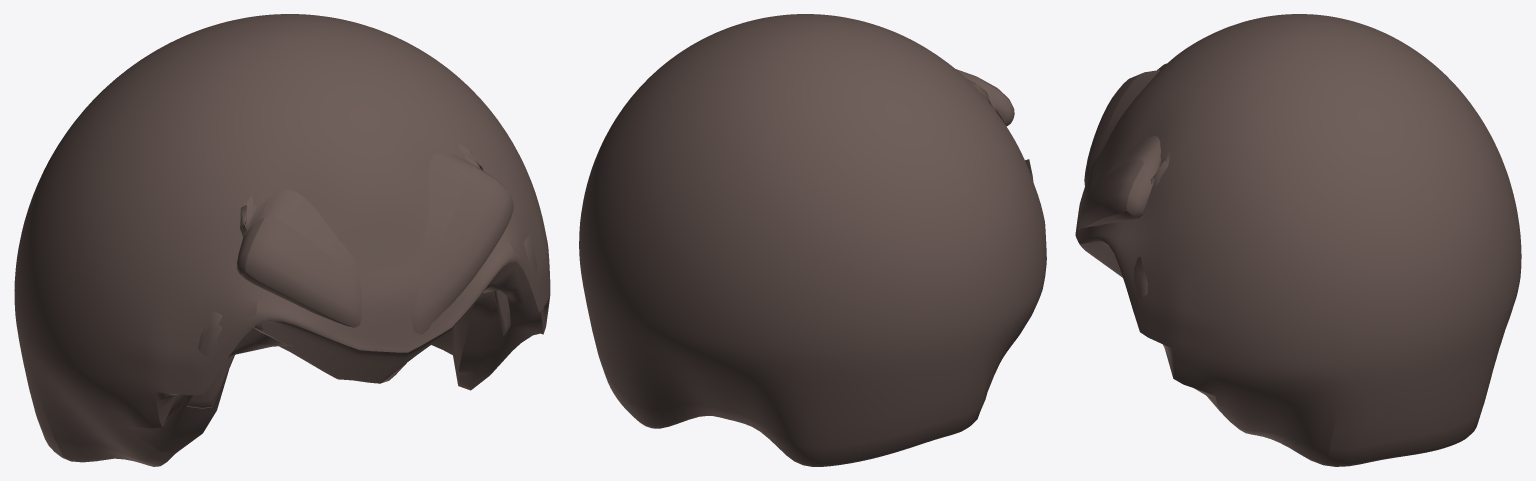
Rendered from Hair_03_SleekBob.glb.
The picture shows the model from 3 angles, left to right: view 1: azimuth 30°, elevation 25°; view 2: azimuth 150°, elevation 25°; view 3: azimuth 270°, elevation 25°; orthographic projection. The views are drawn at different scales.
Parts seen in each view (by area): view 1: Hair_03_SleekBob; view 2: Hair_03_SleekBob; view 3: Hair_03_SleekBob.
Boxes of the visible parts, <box> form: Hair_03_SleekBob: <box>14,14,550,466</box>; Hair_03_SleekBob: <box>579,14,1046,466</box>; Hair_03_SleekBob: <box>1075,14,1521,466</box>.
Size of the model in its own units: 1.3 by 1.06 by 1.2.
